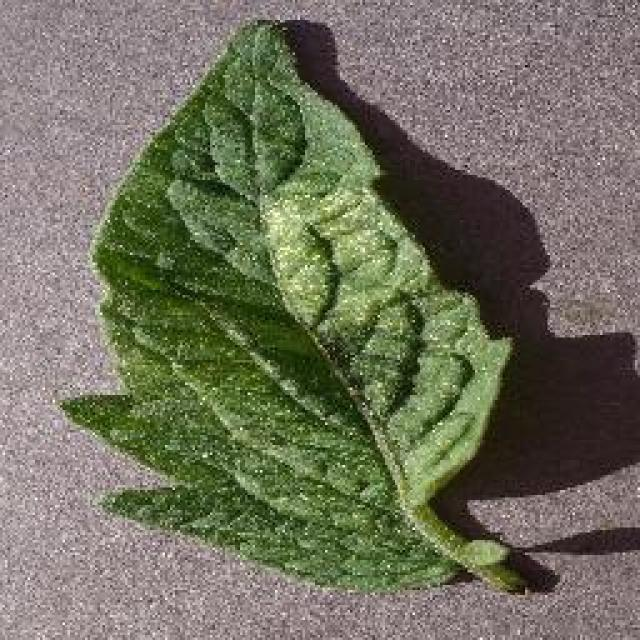Tomato spider mites leaf: (61, 20, 512, 592)
